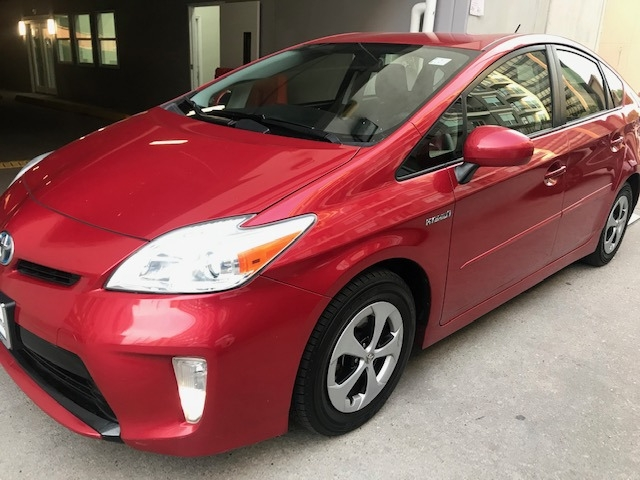Toyota Prius: (1, 29, 640, 460)
